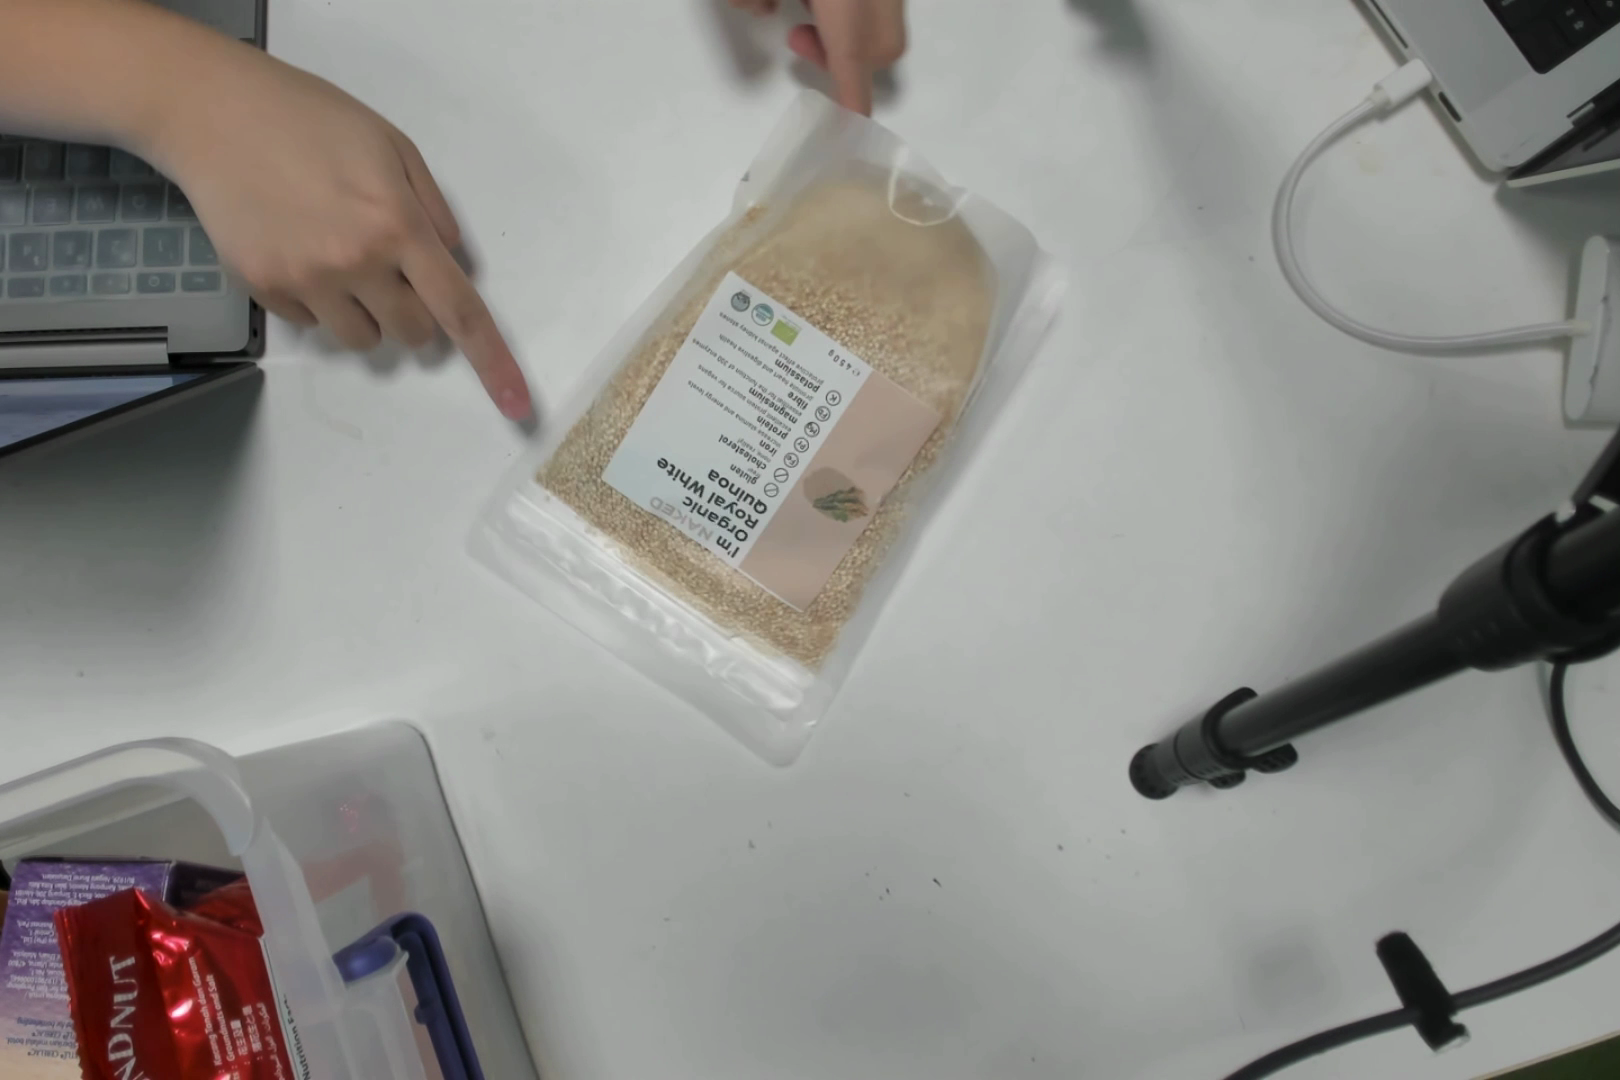Rice(brown-others)_400-499g_Halal_NonHealthy: (568, 155, 1078, 703)
